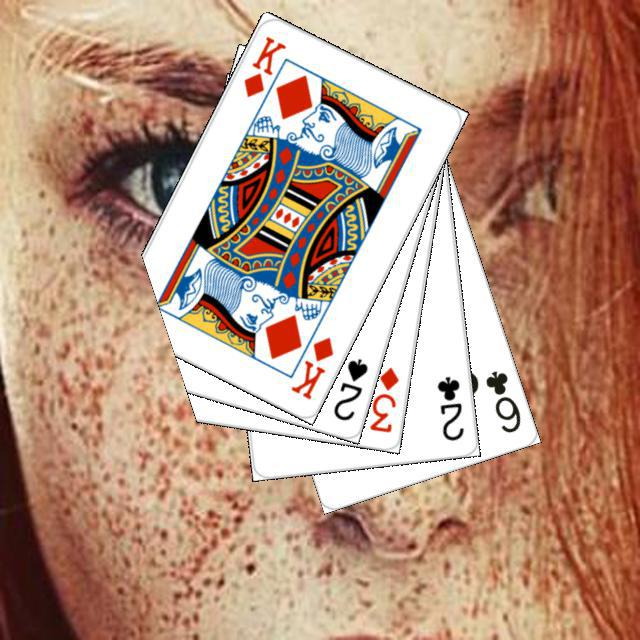2c: (432, 371, 466, 442)
2s: (328, 353, 370, 423)
3d: (364, 362, 401, 434)
6c: (480, 365, 523, 435)
Kd: (285, 332, 336, 402), (238, 31, 288, 99)
